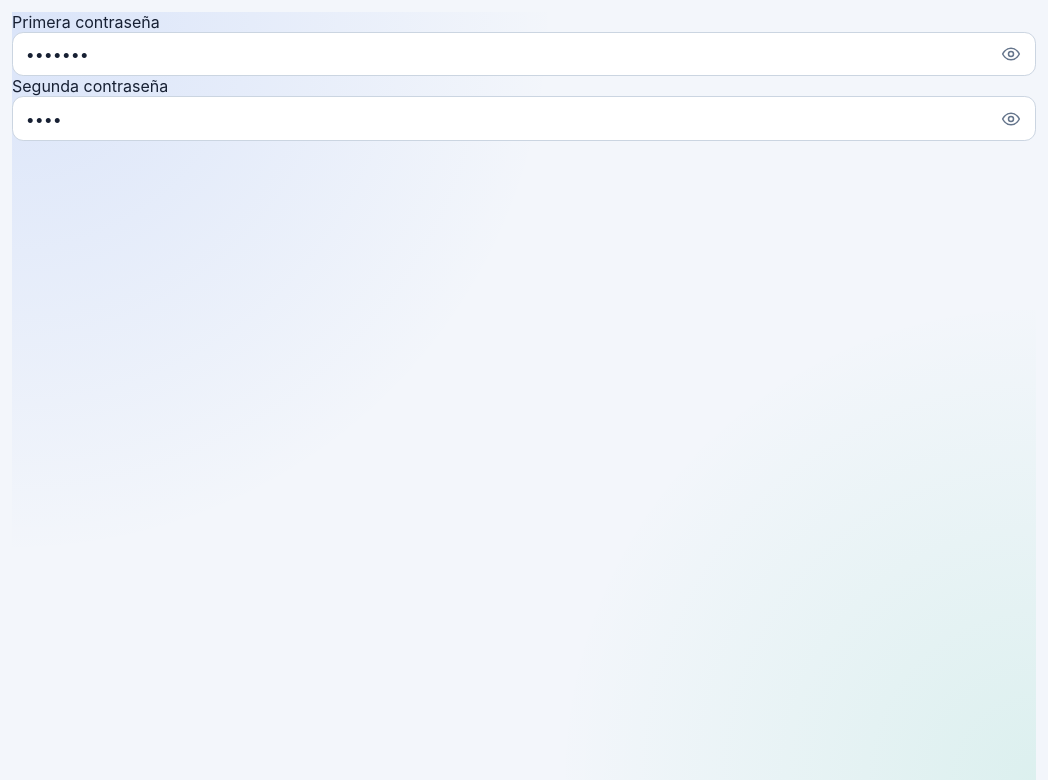
muestra y oculta cada contraseña sin enviar el formulario
Click the 1st button named "Mostrar contraseña": (1011, 54) [991, 34, 1031, 74]
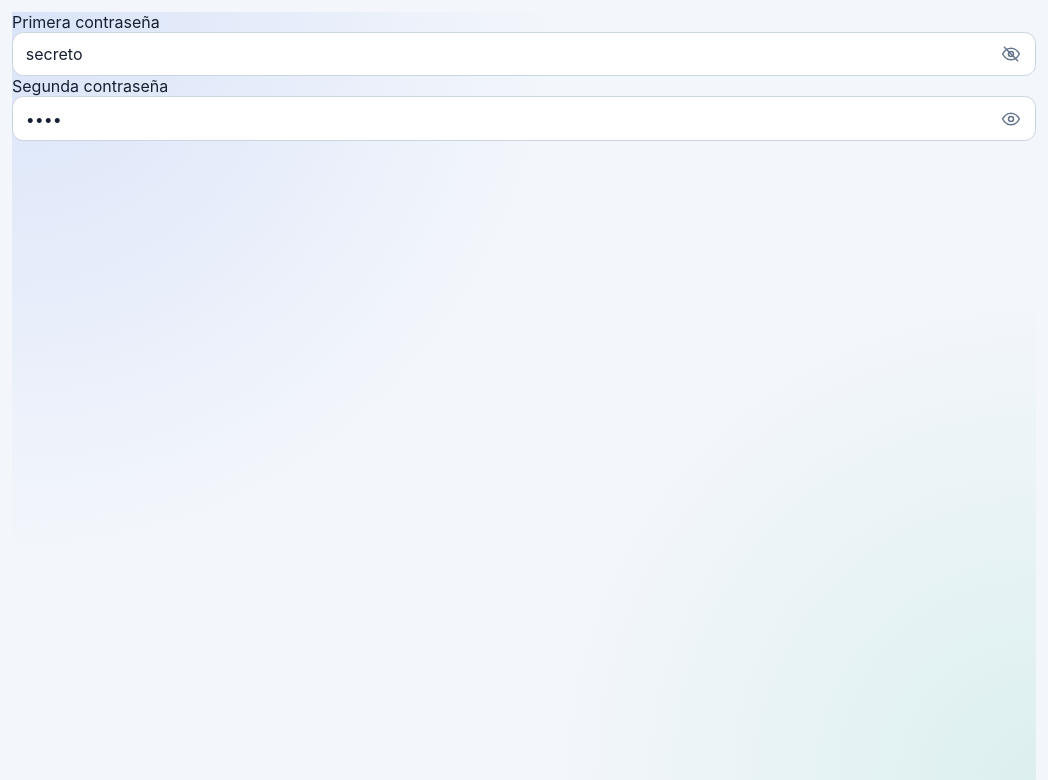
Expected: the field labelled "Primera contraseña" holds "secreto", [12, 32, 1036, 76]
Now the field labelled "Primera contraseña" shows its text, box [12, 32, 1036, 76]
Click the button named "Ocultar contraseña": (1011, 54) [991, 34, 1031, 74]
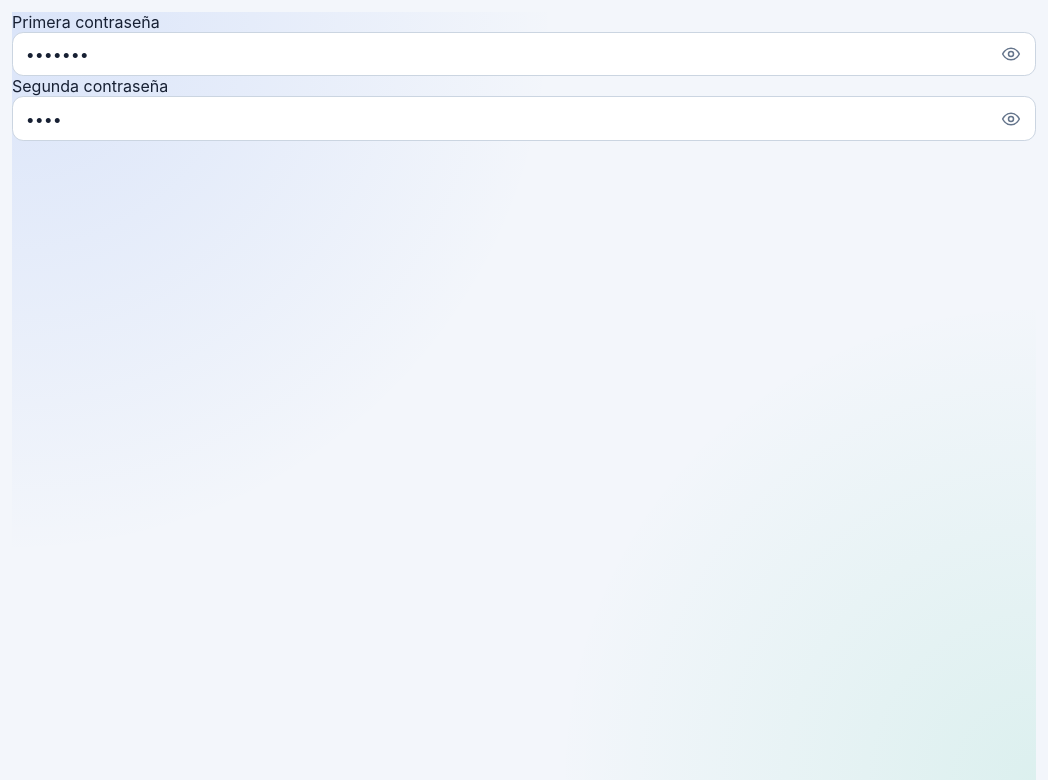
Expected: the password field labelled "Primera contraseña" holds "secreto", [12, 32, 1036, 76]
Now the password field labelled "Primera contraseña" hides its text, box [12, 32, 1036, 76]
